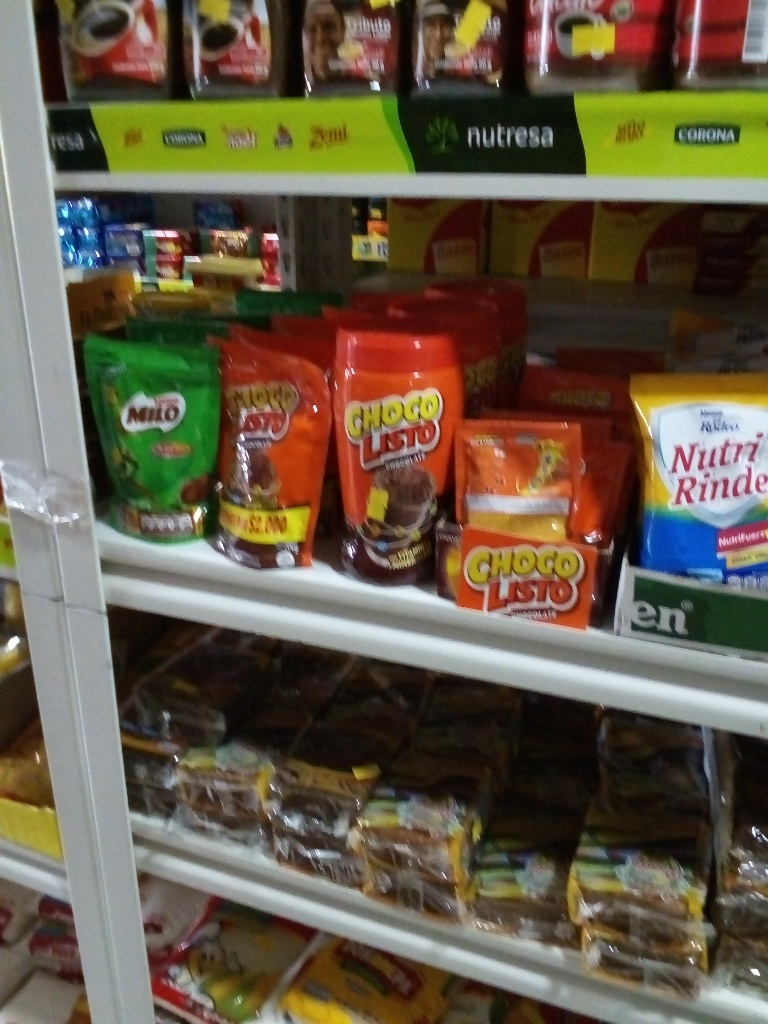COL0170103SOB02000: (449, 416, 607, 620)
COL0170203DYP10000: (79, 332, 226, 546)
